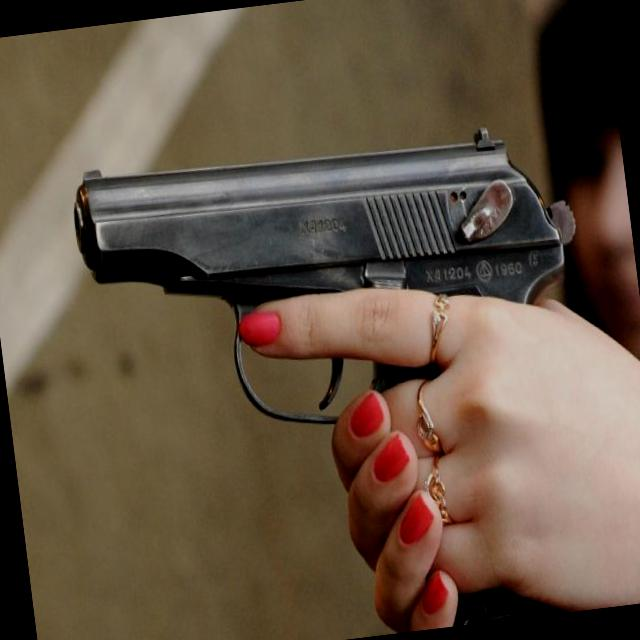handgun: (61, 102, 624, 639)
